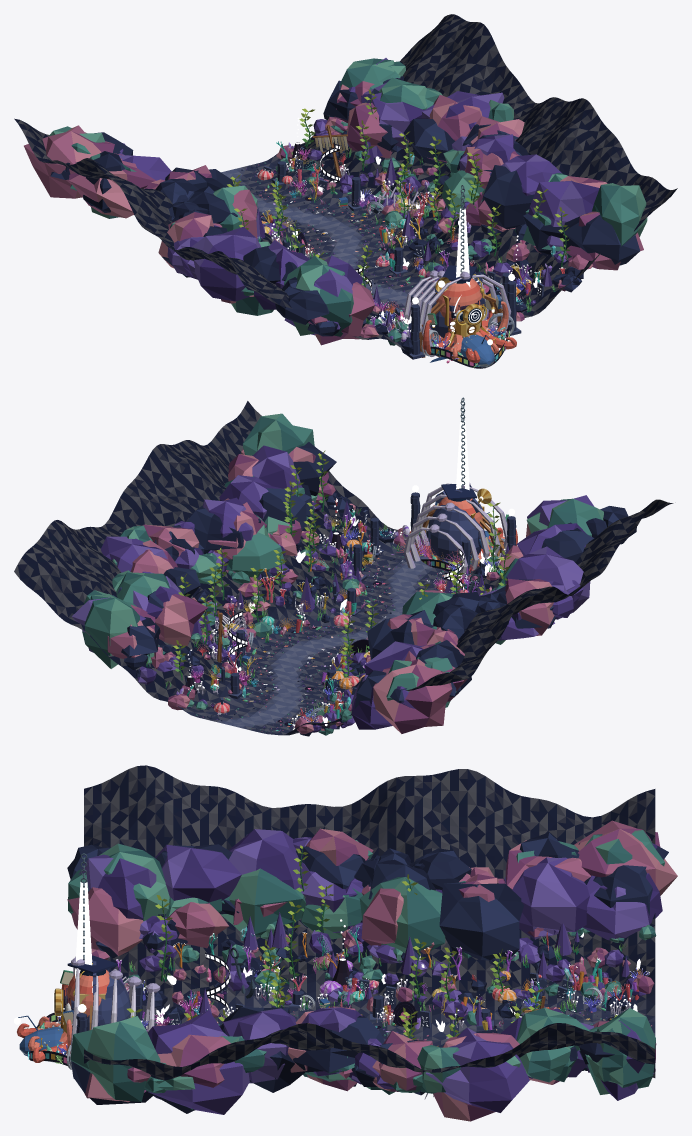
The model's file is trench.glb.
The picture shows the model from 3 angles, top to bottom: view 1: azimuth 30°, elevation 25°; view 2: azimuth 150°, elevation 25°; view 3: azimuth 270°, elevation 25°; orthographic projection. The views are drawn at different scales.
Visible parts, largest first — view 1: dr_tile_foreign_paint, dr_tile_picture_paint, dr_tile_record_paint, dr_tile_text_paint, dr_tile_text_sway, dr_mark_record_paint, dr_mark_text_sway, dr_mark_text_paint, dr_tile_picture_sway, dr_mark_foreign_paint, dr_mark_picture_paint, dr_whale_paint (+3 smaller); view 2: dr_tile_foreign_paint, dr_tile_picture_paint, dr_tile_record_paint, dr_tile_text_paint, dr_tile_text_sway, dr_mark_record_paint, dr_mark_foreign_paint, dr_tile_picture_sway, dr_tile_record_sway, dr_mark_text_paint, dr_tile_record_glow, dr_shaft_beam (+2 smaller); view 3: dr_tile_foreign_paint, dr_tile_record_paint, dr_tile_text_paint, dr_tile_picture_paint, dr_tile_text_sway, dr_mark_record_paint, dr_mark_text_paint, dr_tile_picture_sway, dr_mark_foreign_paint, dr_mark_text_sway, dr_tile_record_sway, dr_shaft_beam (+4 smaller).
Boxes of the visible parts, left/top/right/bottom form: dr_tile_foreign_paint: left=14, top=14, right=677, bottom=355; dr_tile_picture_paint: left=24, top=81, right=643, bottom=345; dr_tile_record_paint: left=119, top=58, right=599, bottom=341; dr_tile_text_paint: left=48, top=58, right=647, bottom=345; dr_tile_text_sway: left=227, top=89, right=570, bottom=328; dr_mark_record_paint: left=401, top=270, right=511, bottom=356; dr_mark_text_sway: left=422, top=274, right=516, bottom=363; dr_mark_text_paint: left=432, top=265, right=501, bottom=357; dr_tile_picture_sway: left=268, top=144, right=544, bottom=330; dr_mark_foreign_paint: left=407, top=271, right=521, bottom=359; dr_mark_picture_paint: left=421, top=277, right=514, bottom=356; dr_whale_paint: left=430, top=334, right=494, bottom=367; dr_tile_foreign_paint: left=14, top=401, right=673, bottom=736; dr_tile_picture_paint: left=107, top=447, right=554, bottom=734; dr_tile_record_paint: left=72, top=445, right=594, bottom=732; dr_tile_text_paint: left=82, top=413, right=603, bottom=735; dr_tile_text_sway: left=146, top=450, right=511, bottom=716; dr_mark_record_paint: left=402, top=482, right=507, bottom=577; dr_mark_foreign_paint: left=410, top=489, right=516, bottom=563; dr_tile_picture_sway: left=196, top=517, right=479, bottom=727; dr_tile_record_sway: left=191, top=529, right=499, bottom=726; dr_mark_text_paint: left=428, top=484, right=492, bottom=561; dr_tile_record_glow: left=190, top=515, right=499, bottom=735; dr_shaft_beam: left=456, top=421, right=469, bottom=490; dr_tile_foreign_paint: left=67, top=765, right=668, bottom=1113; dr_tile_record_paint: left=79, top=829, right=662, bottom=1114; dr_tile_text_paint: left=68, top=830, right=664, bottom=1109; dr_tile_picture_paint: left=67, top=820, right=677, bottom=1121; dr_tile_text_sway: left=127, top=845, right=626, bottom=1039; dr_mark_record_paint: left=70, top=956, right=160, bottom=1053; dr_mark_text_paint: left=58, top=955, right=117, bottom=1054; dr_tile_picture_sway: left=185, top=930, right=643, bottom=1026; dr_mark_foreign_paint: left=63, top=961, right=130, bottom=1078; dr_mark_text_sway: left=17, top=963, right=92, bottom=1062; dr_tile_record_sway: left=141, top=957, right=648, bottom=1027; dr_shaft_beam: left=75, top=882, right=92, bottom=978.
Size of the model in its own units: 68 by 25.61 by 74.39.
